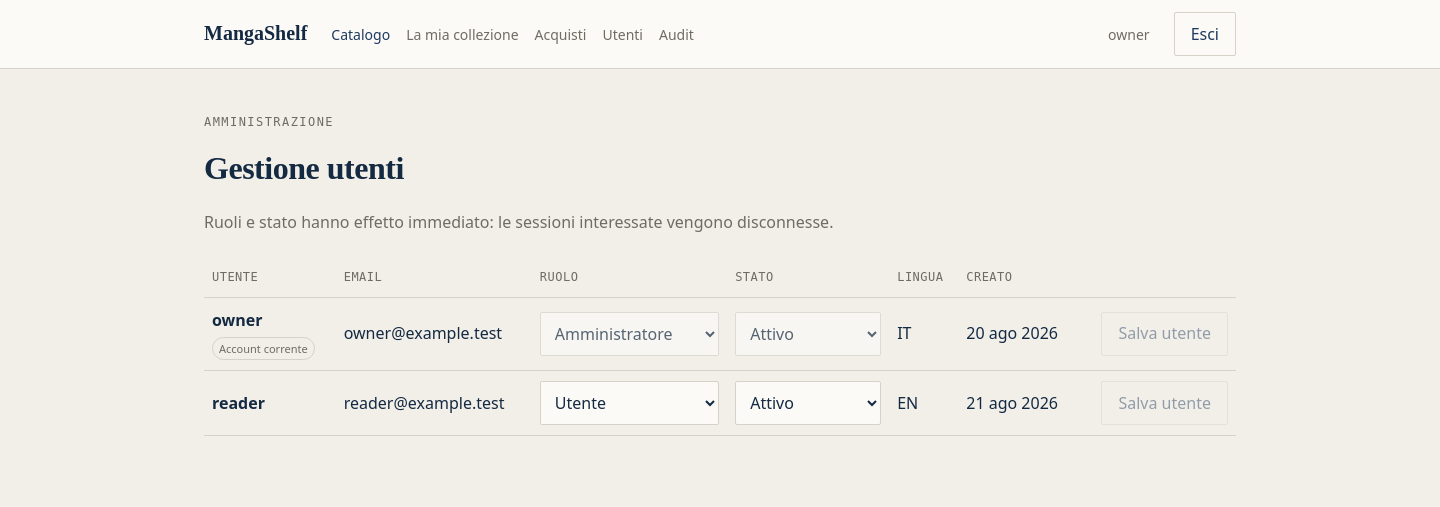
Scenario: keeps the current account locked and saves another user
The width and height of the screenshot is (1440, 507).
Expected: the text "reader" is shown, [212,392,265,414]
Expected: the dropdown named "Ruolo: owner" is disabled, [540,312,719,356]
Select "Amministratore" in the dropdown named "Ruolo: reader" at (629, 403), box [540,381,719,425]
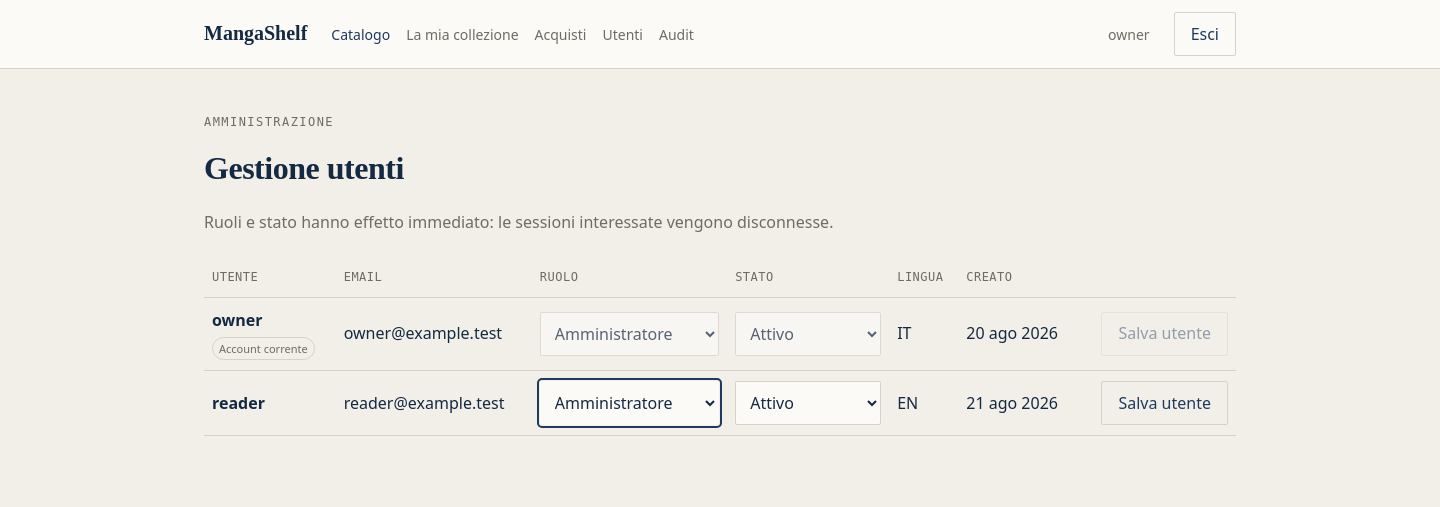
Select "Disattivato" in the dropdown named "Stato: reader" at (808, 403), box [735,381,881,425]
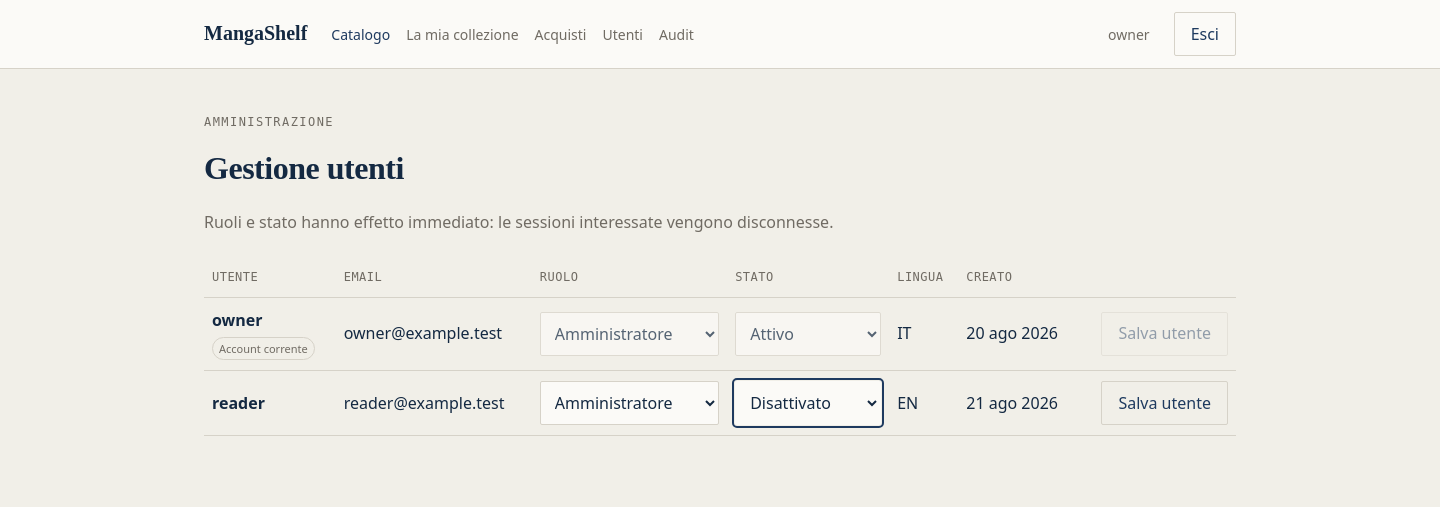
Click the button "Salva utente" in the row of "reader@example.test" at (1165, 403), box [1102,381,1228,425]
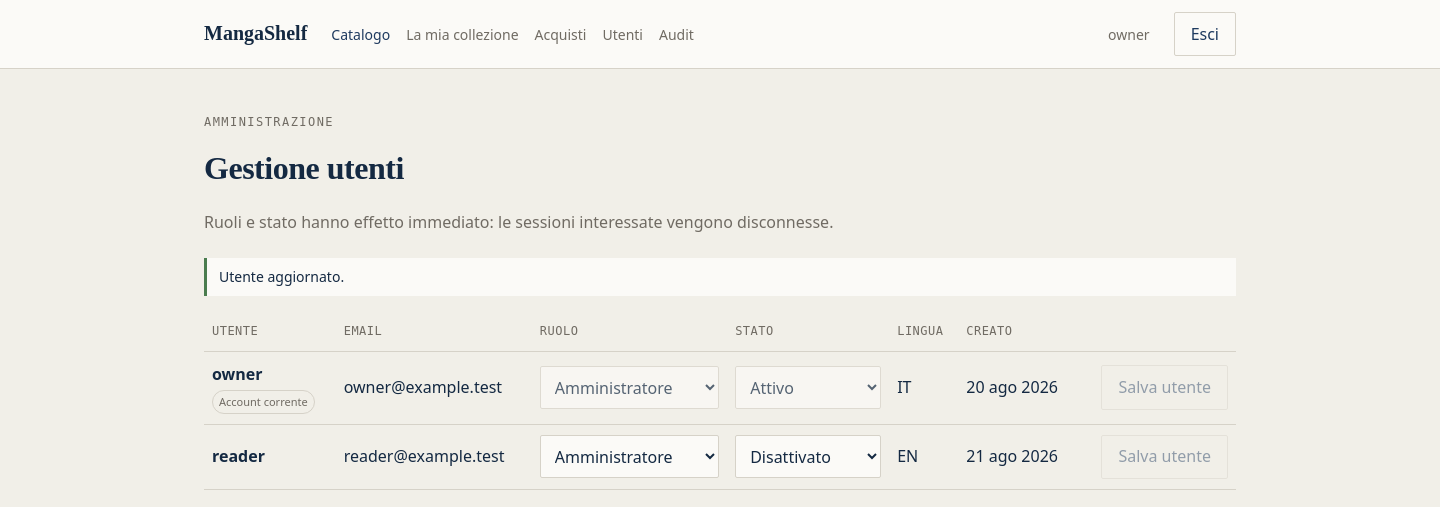
Now the text "Utente aggiornato." is shown, box [204,258,1236,296]
